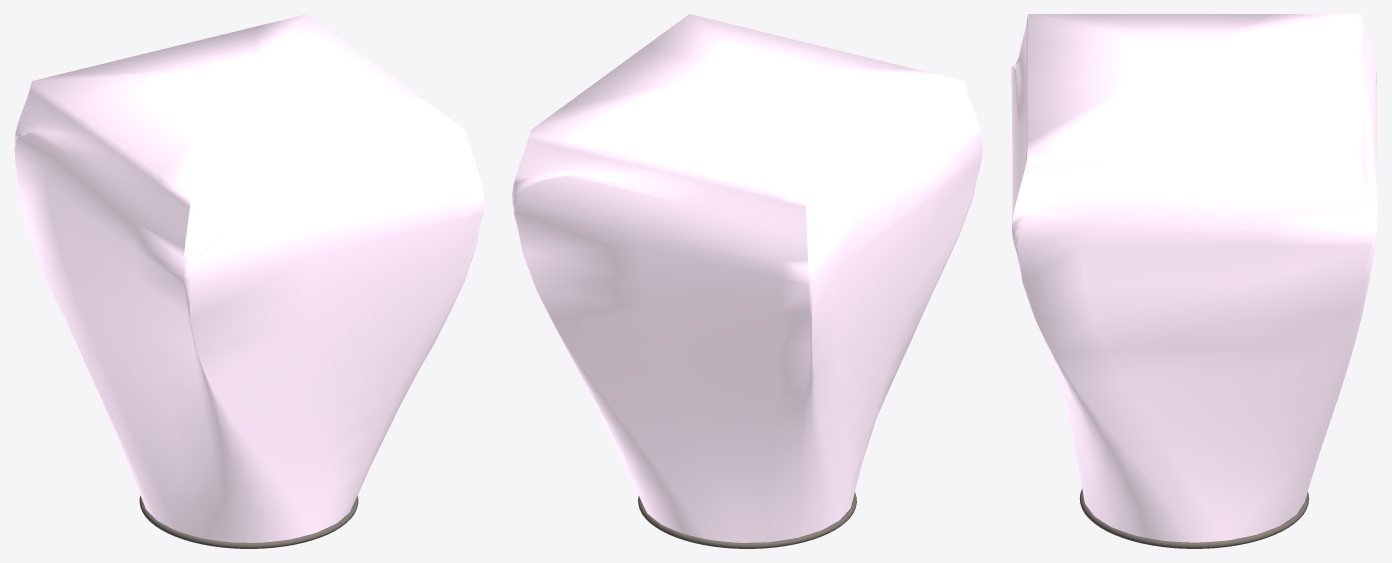
Rendered from Lantern (2).glb.
3 renders of one model, left to right at view 1: azimuth 30°, elevation 25°; view 2: azimuth 150°, elevation 25°; view 3: azimuth 270°, elevation 25°, orthographic. The views are drawn at different scales.
Parts seen in each view (by area): view 1: Loft.1, Torus; view 2: Loft.1, Torus; view 3: Loft.1, Torus.
Part boxes in pixels (x1,y1,x2,y2): Loft.1: (14, 14, 483, 542); Torus: (139, 495, 358, 548); Loft.1: (512, 14, 982, 542); Torus: (638, 492, 856, 548); Loft.1: (1011, 14, 1377, 542); Torus: (1079, 488, 1309, 548).
Size of the model in its own units: 404 by 590 by 405.
